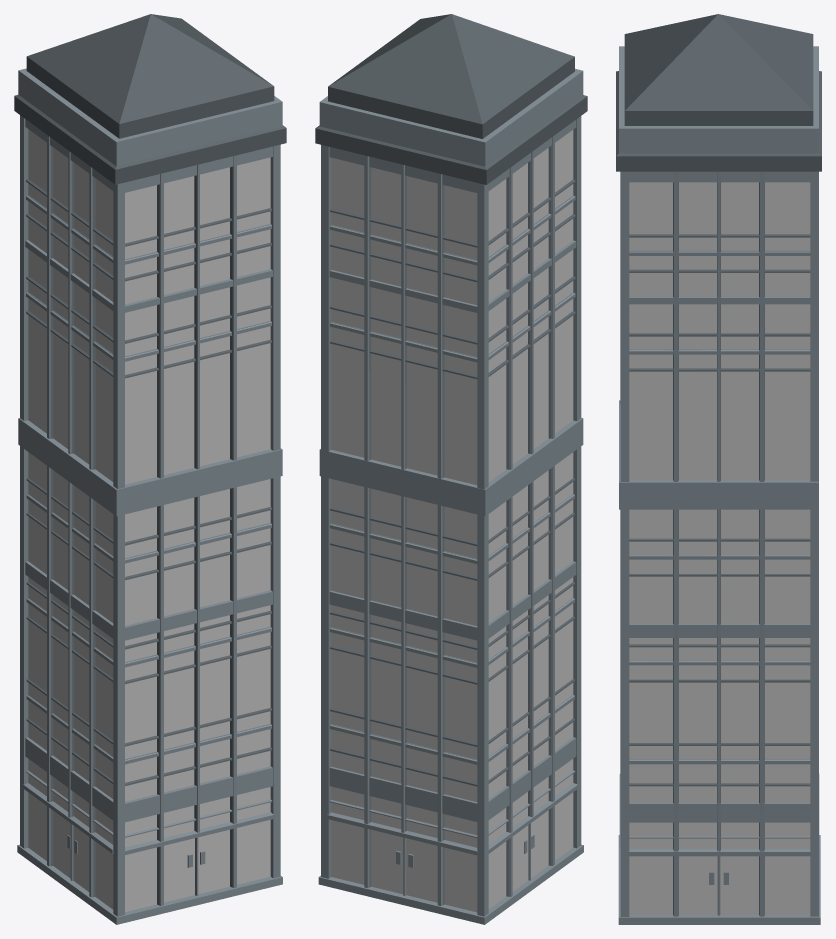
Rendered from SM_Gen_Bld_Background_10.fbx.
3 renders of one model, left to right at view 1: azimuth 30°, elevation 25°; view 2: azimuth 150°, elevation 25°; view 3: azimuth 270°, elevation 25°, orthographic.
Parts seen in each view (by area): view 1: SM_Gen_Bld_Background_10; view 2: SM_Gen_Bld_Background_10; view 3: SM_Gen_Bld_Background_10.
Part boxes in pixels (x1=…): SM_Gen_Bld_Background_10: x1=14, y1=14, x2=286, y2=924; SM_Gen_Bld_Background_10: x1=315, y1=14, x2=587, y2=924; SM_Gen_Bld_Background_10: x1=616, y1=14, x2=821, y2=924.
Bounding box in the file's own units: 585 × 2790 × 599.
